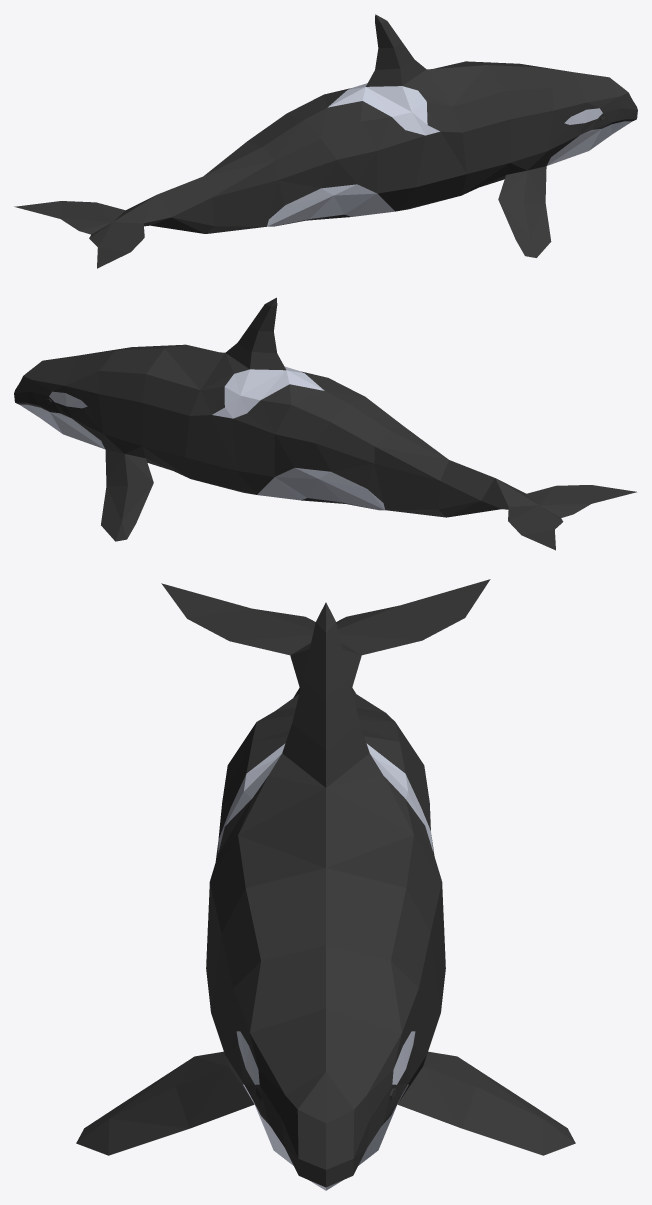
File: Orca2.fbx
The picture shows the model from 3 angles, top to bottom: view 1: azimuth 30°, elevation 25°; view 2: azimuth 150°, elevation 25°; view 3: azimuth 270°, elevation 25°; orthographic projection. The views are drawn at different scales.
Visible parts, largest first — view 1: Orca; view 2: Orca; view 3: Orca.
Boxes of the visible parts, x1=… form: Orca: x1=14, y1=14, x2=637, y2=268; Orca: x1=14, y1=297, x2=636, y2=550; Orca: x1=76, y1=579, x2=575, y2=1190.
Bounding box in the file's own units: 171361 × 62599 × 63739.
